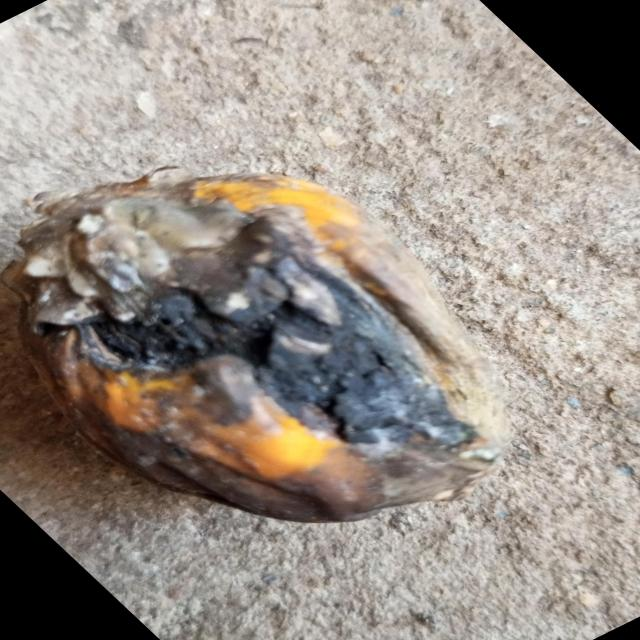damaged: (3, 166, 514, 527)
